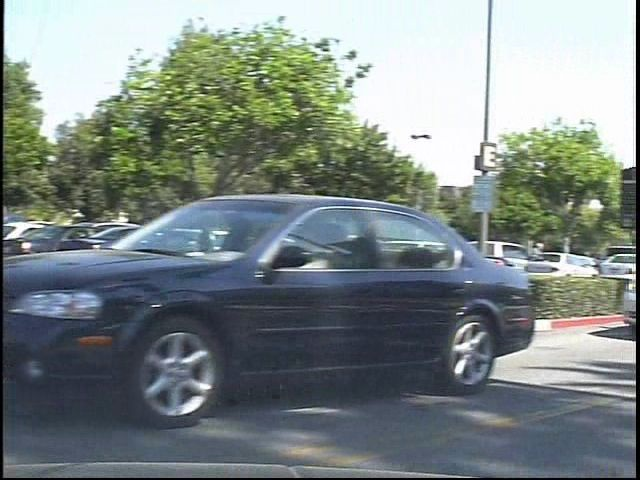person: (535, 233, 562, 289)
